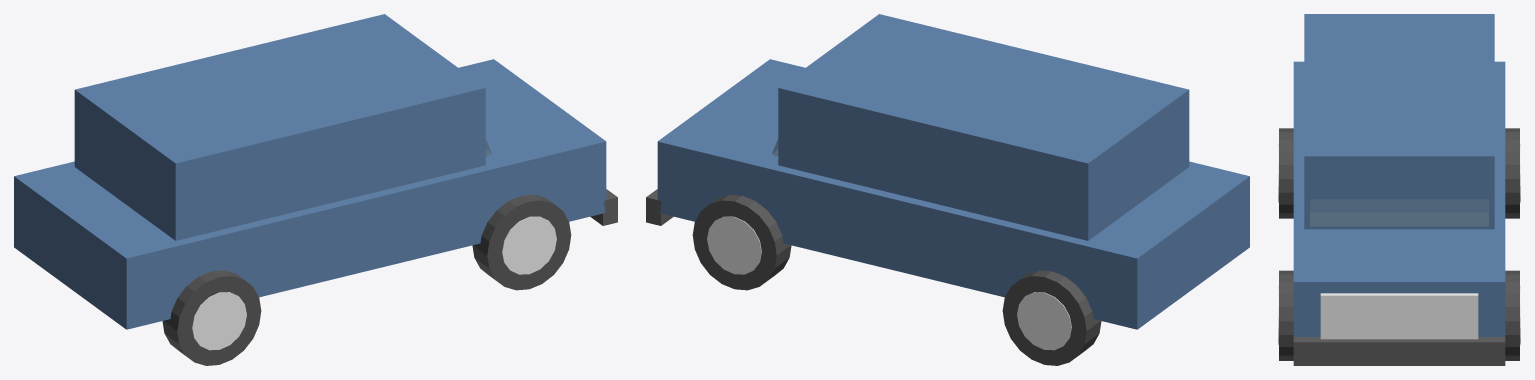
The model's file is hank_jeep_commander.glb.
The picture shows the model from 3 angles, left to right: view 1: azimuth 30°, elevation 25°; view 2: azimuth 150°, elevation 25°; view 3: azimuth 270°, elevation 25°; orthographic projection. The views are drawn at different scales.
Parts seen in each view (by area): view 1: Hank_Jeep_cabin, Hank_Jeep_body, Hank_Jeep_wf_r_tire, Hank_Jeep_wr_r_tire, Hank_Jeep_wf_r_rim, Hank_Jeep_wr_r_rim, Hank_Jeep_bf; view 2: Hank_Jeep_cabin, Hank_Jeep_body, Hank_Jeep_wf_l_tire, Hank_Jeep_wr_l_tire, Hank_Jeep_wf_l_rim, Hank_Jeep_wr_l_rim, Hank_Jeep_bf; view 3: Hank_Jeep_cabin, Hank_Jeep_body, Hank_Jeep_grille, Hank_Jeep_bf, Hank_Jeep_ws, Hank_Jeep_wf_l_tire, Hank_Jeep_wf_r_tire, Hank_Jeep_wr_l_tire, Hank_Jeep_wr_r_tire.
Part boxes in pixels (x1=…): Hank_Jeep_cabin: x1=74, y1=14, x2=485, y2=240; Hank_Jeep_body: x1=14, y1=59, x2=606, y2=329; Hank_Jeep_wf_r_tire: x1=472, y1=194, x2=571, y2=290; Hank_Jeep_wr_r_tire: x1=162, y1=270, x2=261, y2=365; Hank_Jeep_wf_r_rim: x1=502, y1=216, x2=556, y2=274; Hank_Jeep_wr_r_rim: x1=192, y1=292, x2=246, y2=350; Hank_Jeep_bf: x1=590, y1=189, x2=617, y2=225; Hank_Jeep_cabin: x1=778, y1=14, x2=1189, y2=240; Hank_Jeep_body: x1=657, y1=59, x2=1249, y2=329; Hank_Jeep_wf_l_tire: x1=692, y1=194, x2=791, y2=290; Hank_Jeep_wr_l_tire: x1=1002, y1=270, x2=1101, y2=365; Hank_Jeep_wf_l_rim: x1=707, y1=216, x2=761, y2=274; Hank_Jeep_wr_l_rim: x1=1017, y1=292, x2=1071, y2=350; Hank_Jeep_bf: x1=646, y1=189, x2=673, y2=225; Hank_Jeep_cabin: x1=1304, y1=14, x2=1494, y2=229; Hank_Jeep_body: x1=1293, y1=61, x2=1505, y2=336; Hank_Jeep_grille: x1=1320, y1=293, x2=1478, y2=339; Hank_Jeep_bf: x1=1293, y1=337, x2=1505, y2=365; Hank_Jeep_ws: x1=1310, y1=199, x2=1488, y2=226; Hank_Jeep_wf_l_tire: x1=1505, y1=270, x2=1519, y2=360; Hank_Jeep_wf_r_tire: x1=1279, y1=270, x2=1293, y2=360; Hank_Jeep_wr_l_tire: x1=1505, y1=128, x2=1519, y2=218; Hank_Jeep_wr_r_tire: x1=1279, y1=128, x2=1293, y2=218.
Size of the model in its own units: 4.92 by 1.9 by 2.23.
